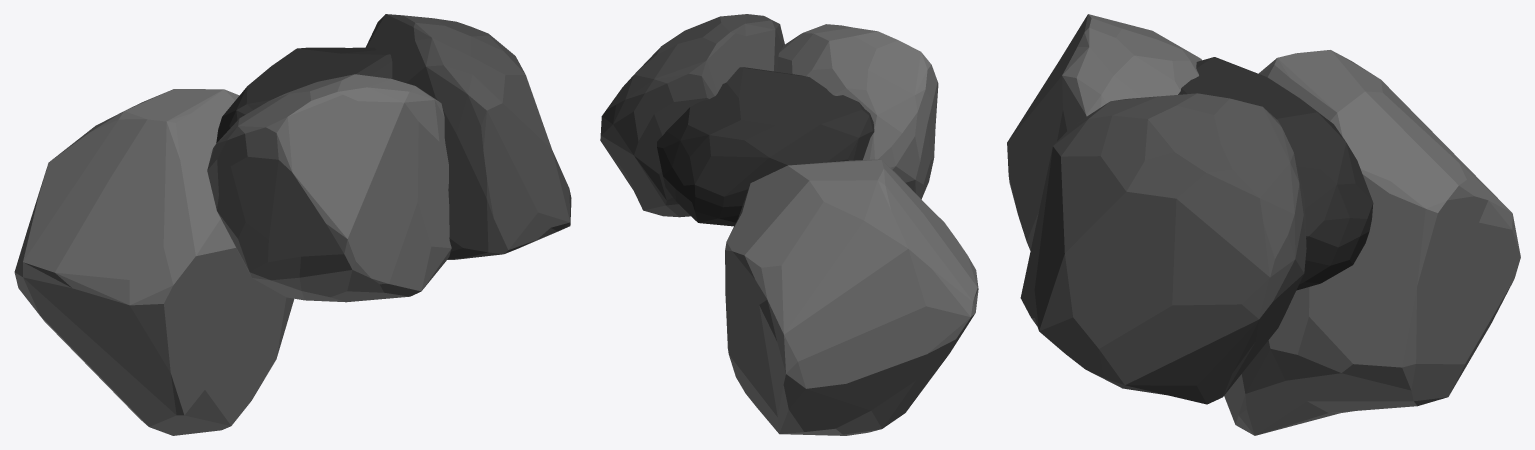
The model's file is Stones2.glb.
3 renders of one model, left to right at view 1: azimuth 30°, elevation 25°; view 2: azimuth 150°, elevation 25°; view 3: azimuth 270°, elevation 25°, orthographic. The views are drawn at different scales.
Parts seen in each view (by area): view 1: Stone_34, Stone_12, Stone_13, Stone_20; view 2: Stone_34, Stone_20, Stone_13, Stone_12; view 3: Stone_13, Stone_34, Stone_12, Stone_20.
Part boxes in pixels (x1,y1,x2,y2): Stone_34: [14, 89, 294, 435]; Stone_12: [207, 74, 451, 302]; Stone_13: [365, 14, 571, 259]; Stone_20: [216, 47, 392, 142]; Stone_34: [725, 159, 978, 435]; Stone_20: [657, 67, 874, 226]; Stone_13: [600, 14, 784, 217]; Stone_12: [776, 24, 938, 198]; Stone_13: [1020, 93, 1306, 404]; Stone_34: [1224, 50, 1520, 435]; Stone_12: [1007, 14, 1201, 250]; Stone_20: [1178, 57, 1373, 290].
Size of the model in its own units: 1.15 by 0.9224 by 0.967.
1 material, 1 textured.
